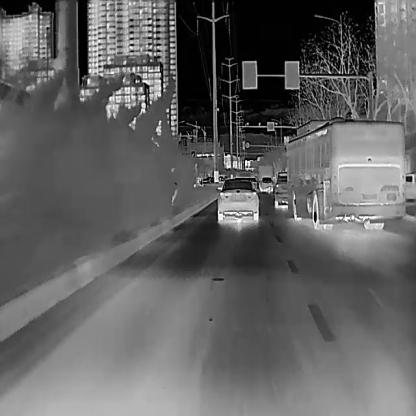bus: (285, 114, 404, 230)
car: (215, 177, 259, 221), (272, 170, 288, 206), (404, 172, 416, 198), (259, 176, 274, 190)
truck: (234, 170, 256, 188), (257, 164, 273, 177)
